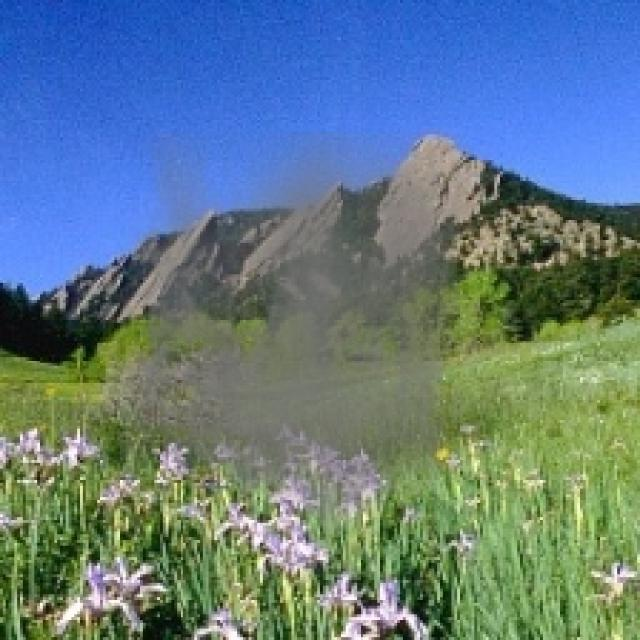smoke: (117, 132, 469, 548)
